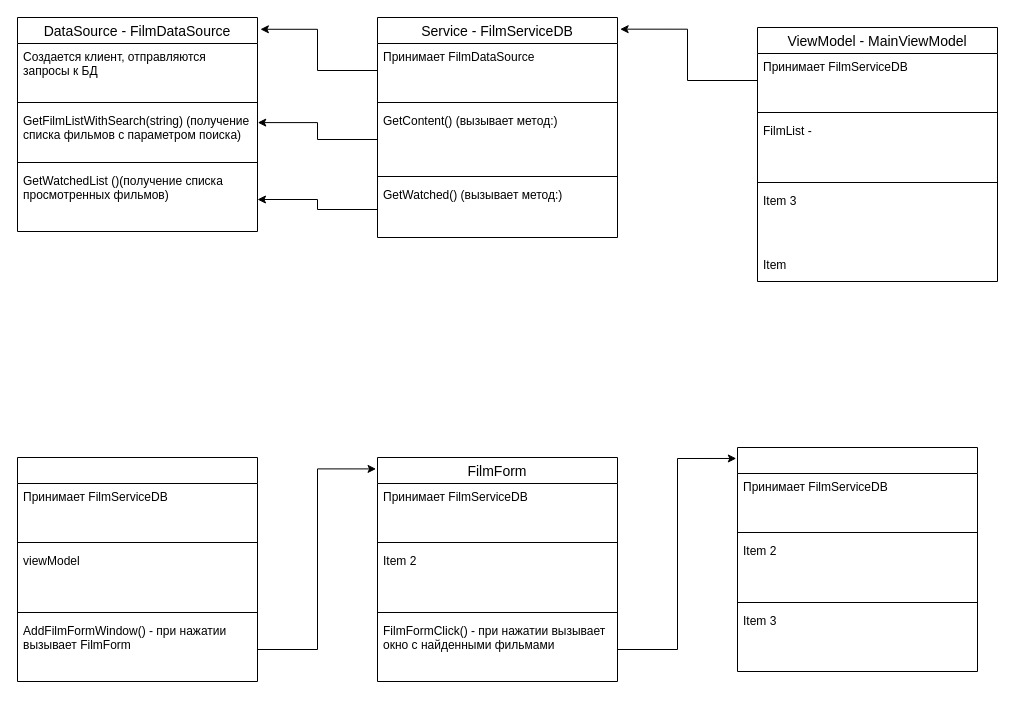
Image size: 1015x702. Some labels were removed from this diagram. The shapes that lost their labels are listed below. From the top down, each one's box as (x1, y1, x2, y2) in pixels, then its label:
(16, 456, 258, 682): MainWindow
(736, 446, 978, 672): SearchFilmsWindow
